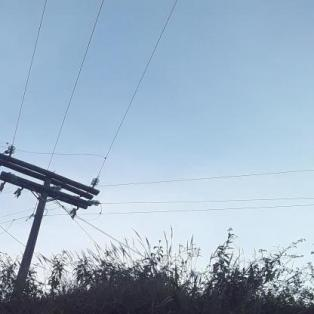Poste: (2, 174, 61, 314)
